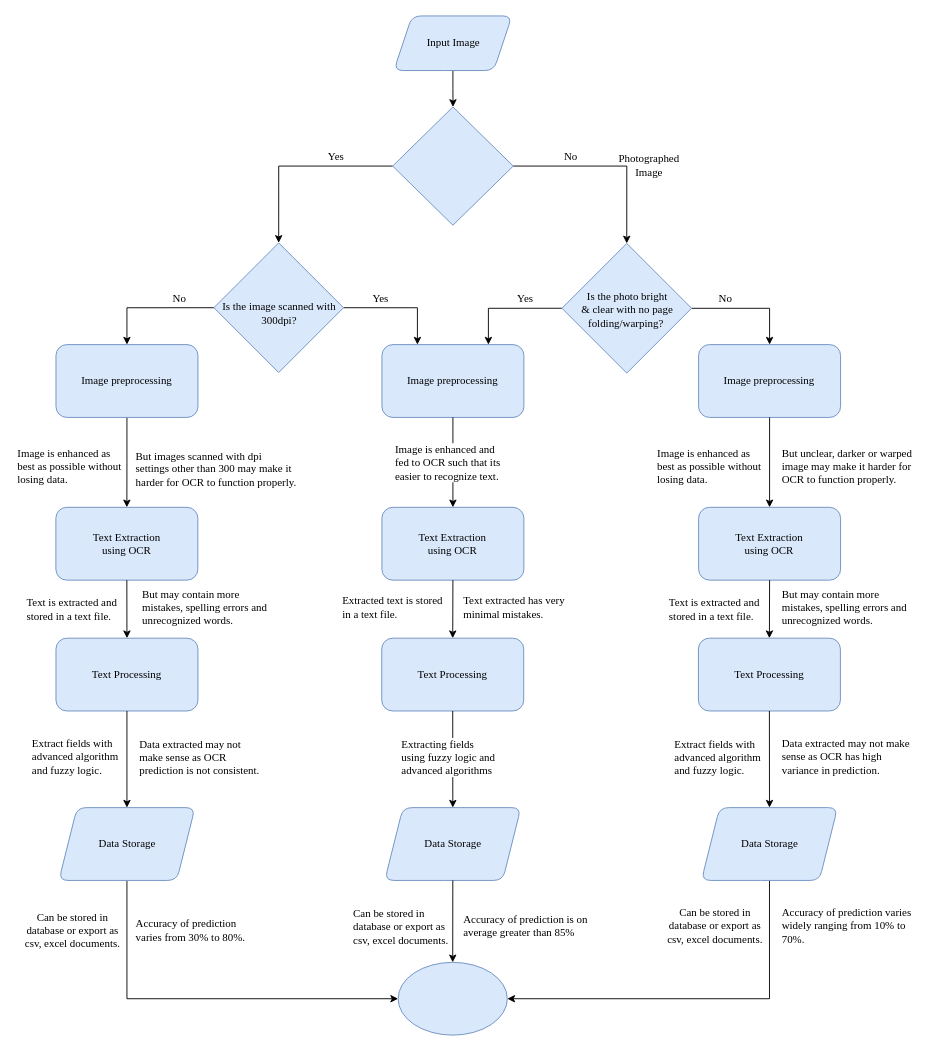
Some shapes in this 950 by 1051 pixel diagram are drawn without their labels. Here are the shapes that lost their labels. From the top down, the centre of each, then its label:
At [452,165]: "Is it scanned?".
At [452,998]: "End".
